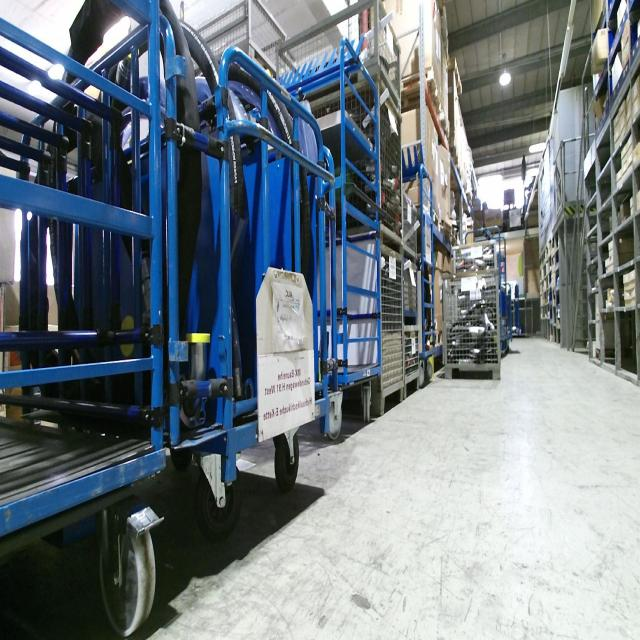pallet: (391, 65, 436, 132), (390, 200, 439, 230), (448, 57, 462, 95), (436, 104, 449, 142)
stillage: (258, 78, 405, 254), (274, 1, 401, 112), (163, 1, 289, 87), (442, 271, 501, 382), (374, 238, 404, 418), (455, 242, 503, 289), (397, 252, 422, 320), (402, 189, 421, 265), (404, 324, 422, 402)
